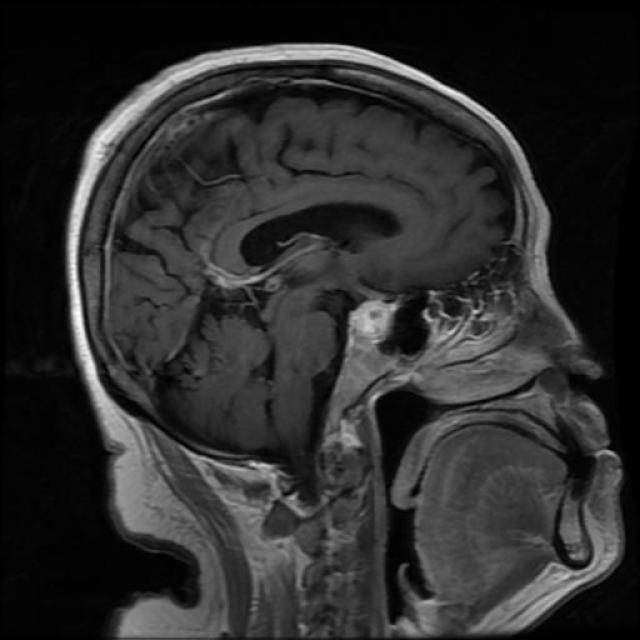pituitary: (342, 290, 409, 362)
